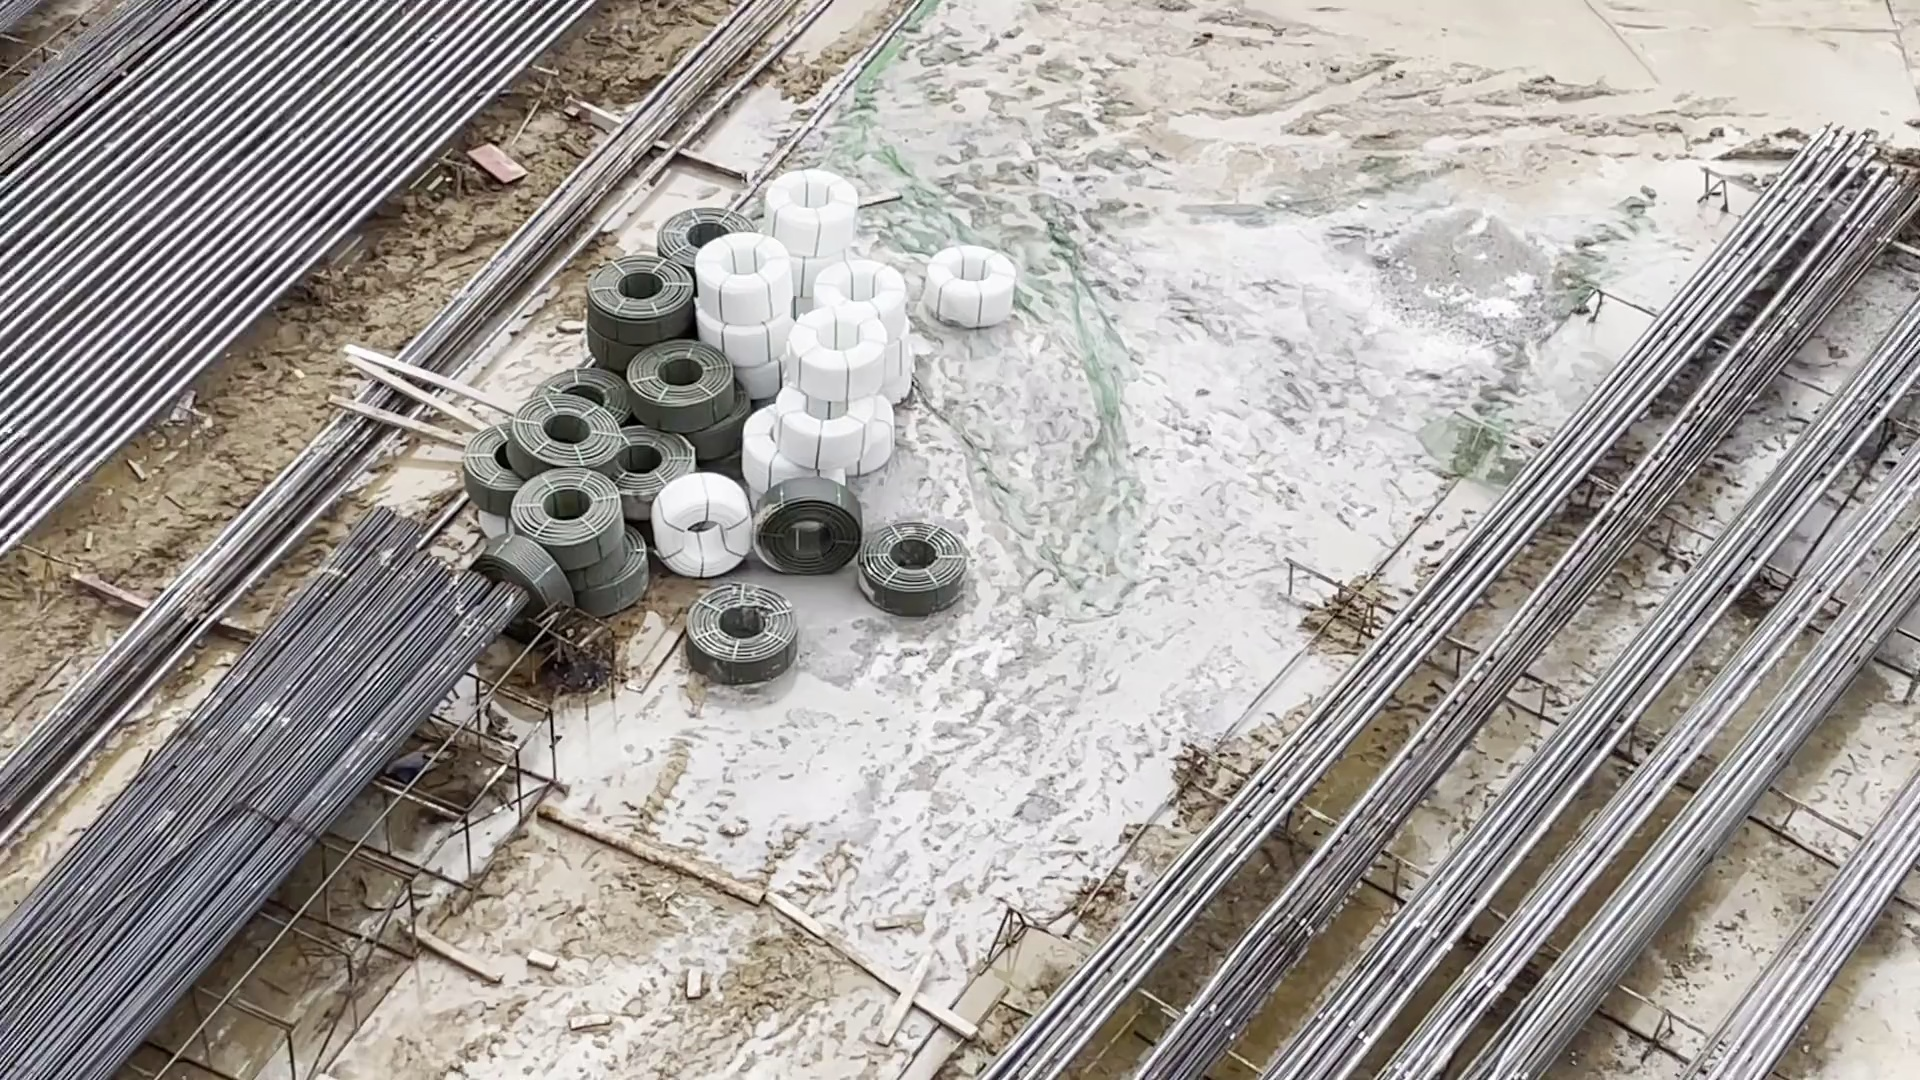rebar: (3, 497, 537, 1077)
